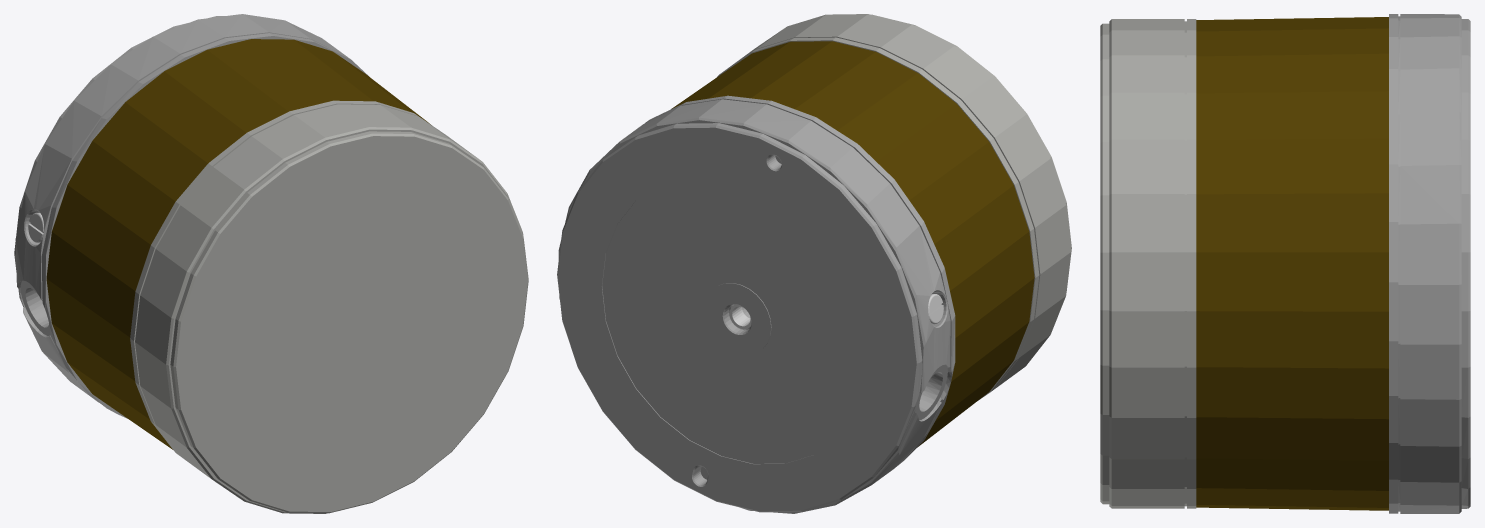
Rendered from robosense_16.dae.
3 renders of one model, left to right at view 1: azimuth 30°, elevation 25°; view 2: azimuth 150°, elevation 25°; view 3: azimuth 270°, elevation 25°, orthographic. The views are drawn at different scales.
Parts seen in each view (by area): view 1: node3, node0, node5; view 2: node5, node0, node3; view 3: node0, node3, node5.
Boxes of the visible parts, x1,y1,x2,y2 form: node3: [130, 100, 528, 513]; node0: [46, 39, 430, 449]; node5: [14, 14, 369, 418]; node5: [557, 95, 955, 513]; node0: [671, 41, 1034, 447]; node3: [717, 14, 1071, 400]; node0: [1196, 17, 1388, 510]; node3: [1100, 19, 1196, 508]; node5: [1389, 14, 1470, 513].
Bounding box in the file's own units: 0.1085 × 0.0807 × 0.109.
